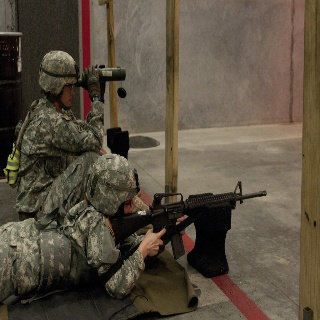rifle: (105, 180, 269, 261)
